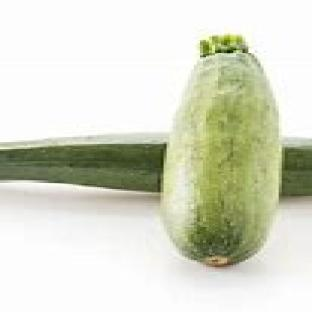Zucchini: (161, 35, 281, 266), (0, 134, 166, 192)
